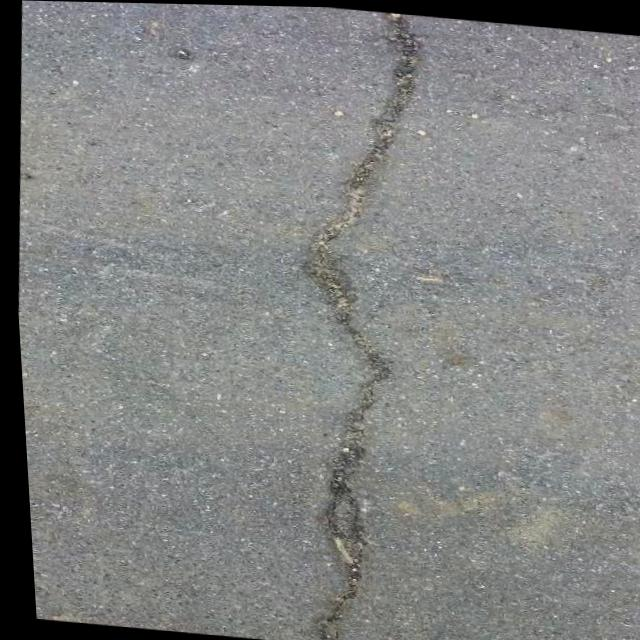Crack: (226, 4, 465, 640)
